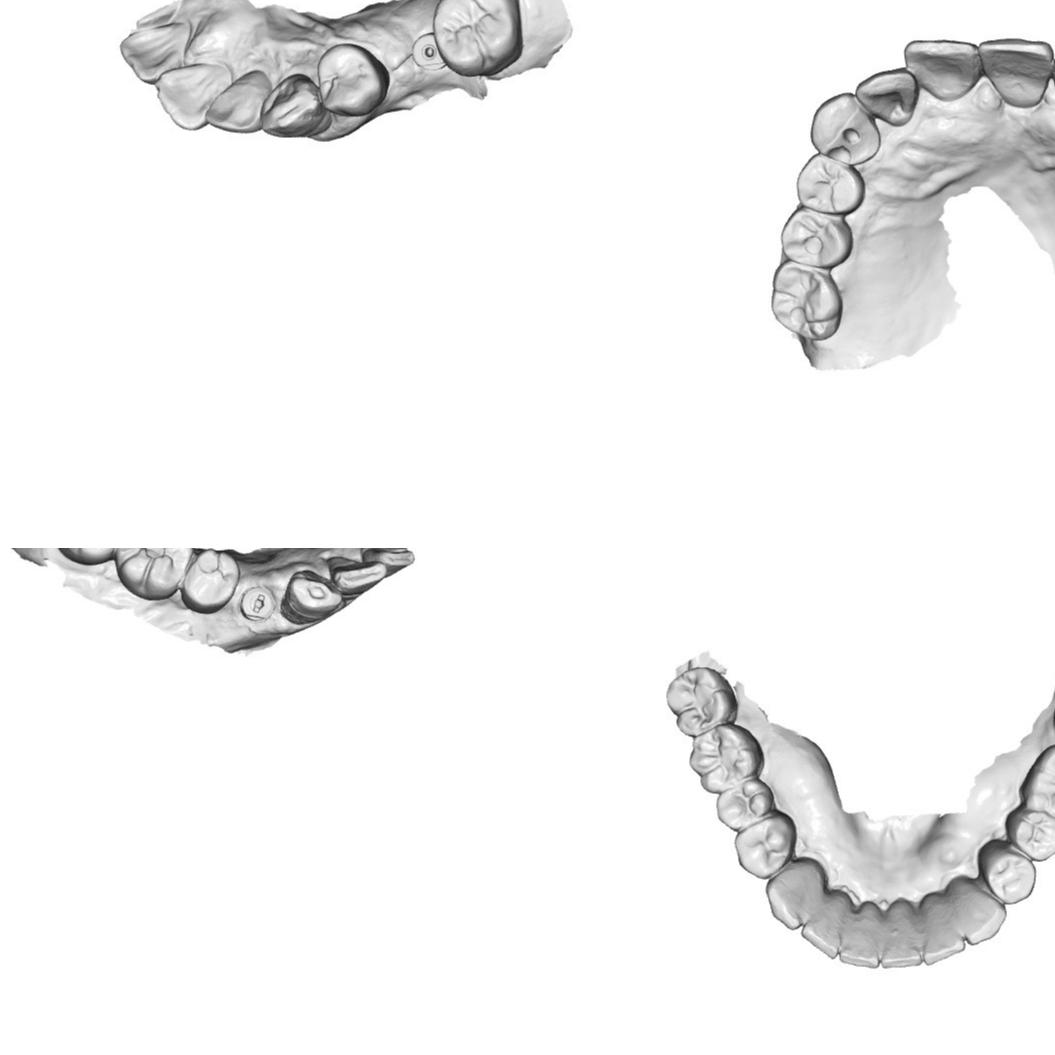canine: (262, 73, 328, 142), (811, 95, 872, 159), (763, 862, 821, 928), (949, 878, 1003, 940), (288, 568, 342, 623)
implant: (409, 31, 449, 72)
implant_minus: (237, 582, 281, 629)
incisor: (980, 35, 1054, 113), (155, 64, 228, 128), (908, 38, 978, 102), (125, 17, 194, 79), (205, 70, 270, 132), (837, 898, 884, 969), (798, 891, 846, 959), (876, 898, 921, 970), (922, 890, 965, 965), (860, 72, 913, 122), (326, 554, 382, 595), (364, 548, 414, 574)
molar: (434, 0, 525, 77), (686, 721, 766, 796), (661, 666, 736, 737), (769, 264, 842, 333), (115, 548, 189, 602), (1015, 742, 1055, 825), (56, 548, 128, 570)
premolar: (313, 37, 390, 118), (731, 813, 797, 880), (978, 841, 1037, 904), (781, 209, 847, 264), (180, 548, 239, 609), (794, 158, 860, 211), (715, 778, 772, 831), (1003, 806, 1055, 861)
